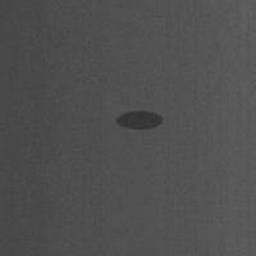Oil spot: (116, 111, 163, 130)
